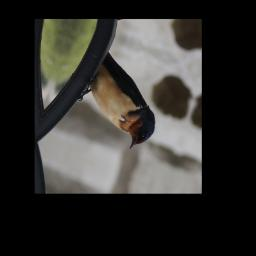Swallow: (67, 43, 171, 157)
